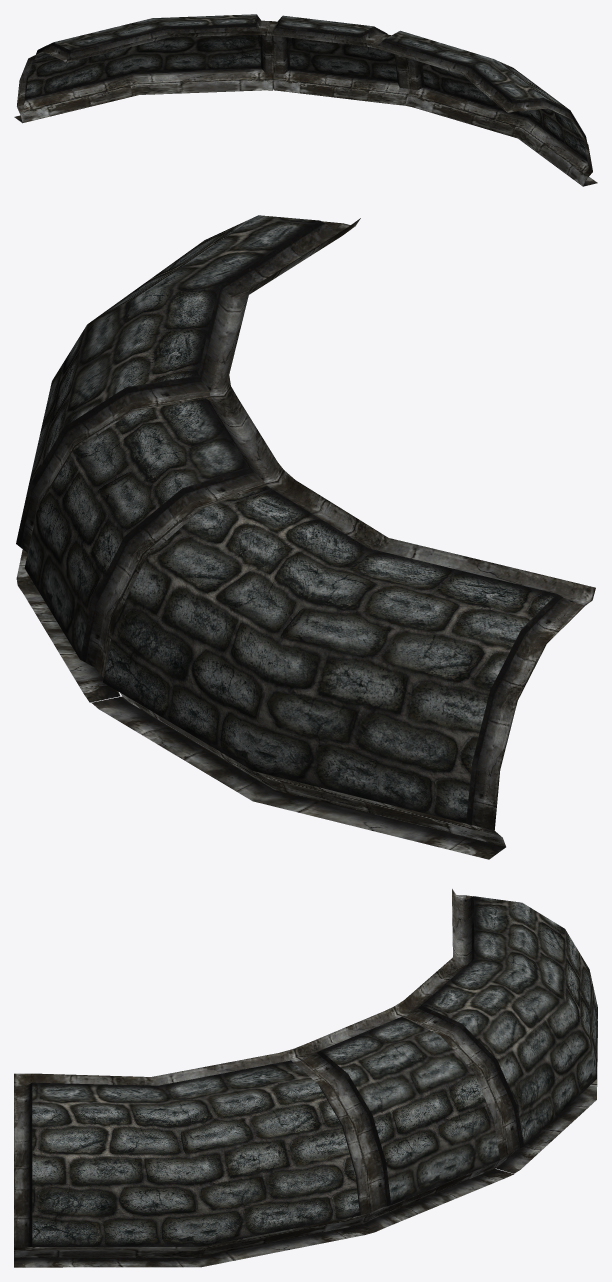
The model's file is corner_concave_round_stairs.dae.
3 views of the same model, one above another, from view 1: azimuth 30°, elevation 25°; view 2: azimuth 150°, elevation 25°; view 3: azimuth 270°, elevation 25° (orthographic). The views are drawn at different scales.
Visible parts, largest first — view 1: polySurface116; view 2: polySurface116; view 3: polySurface116.
Part boxes in pixels (x1,y1,x2,y2): polySurface116: (14, 14, 597, 186); polySurface116: (16, 215, 595, 859); polySurface116: (14, 889, 597, 1267).
Bounding box in the file's own units: 8 × 2 × 8.
